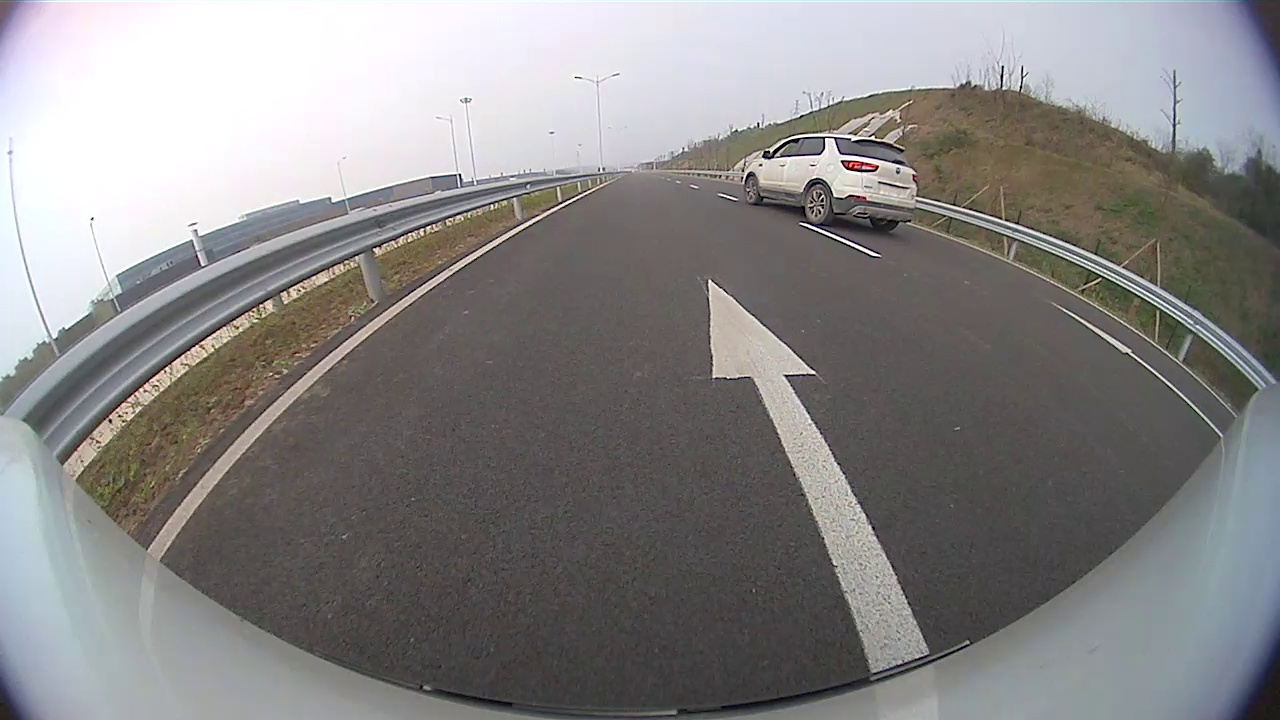car: (740, 133, 918, 233)
front: (743, 173, 764, 206)
rear: (804, 182, 833, 226)
